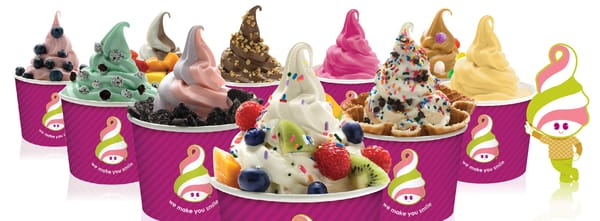soup: (60, 21, 160, 186), (13, 9, 80, 149)
